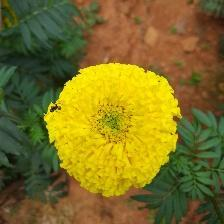marigold: (44, 62, 186, 199)
